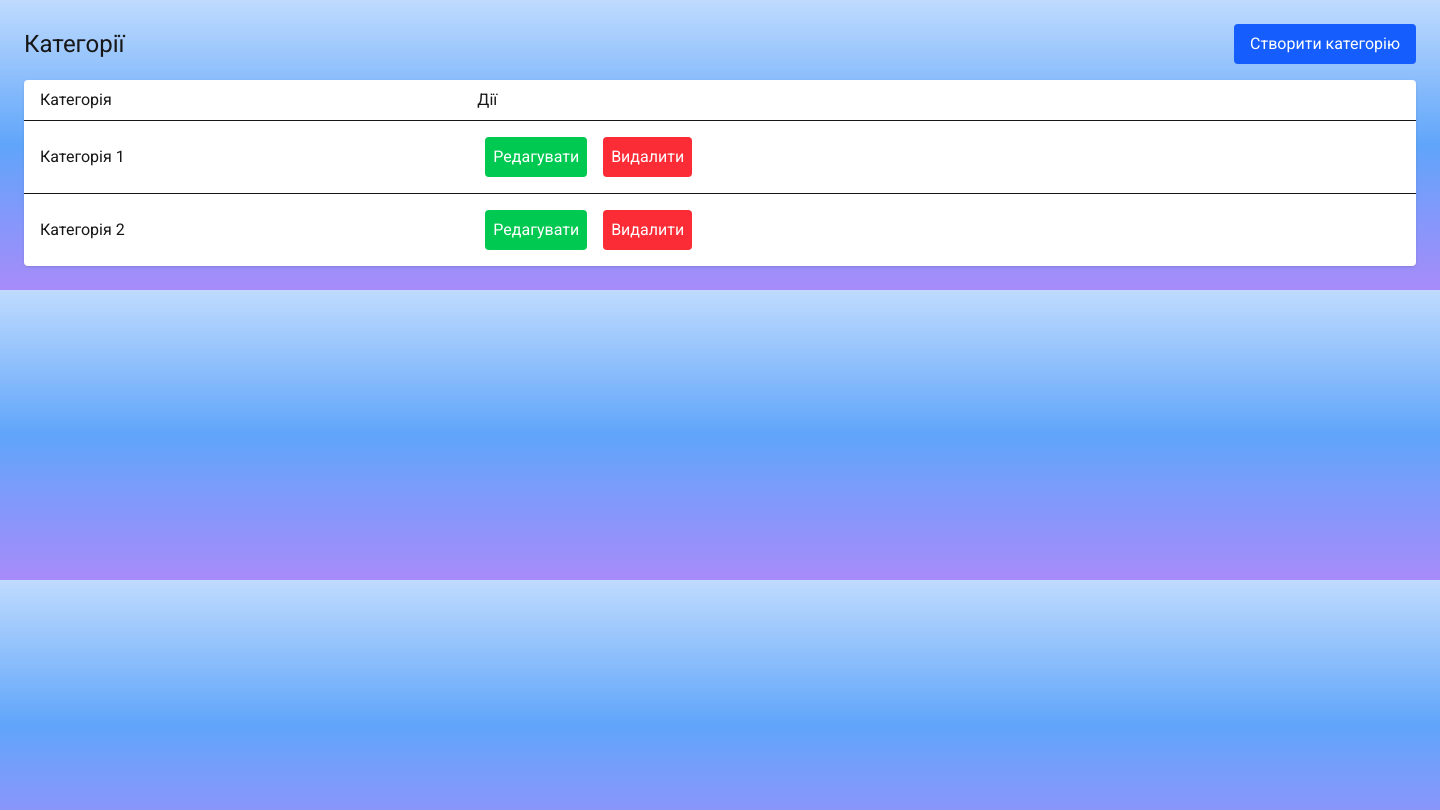
Test: CategoryManager › видаляє категорію після підтвердження
Expected: the text "Категорія 1" is shown, [24,120,461,194]
Click the button "Видалити" in the row of "Категорія 1".
click(648, 157)  # box [603,137,692,177]
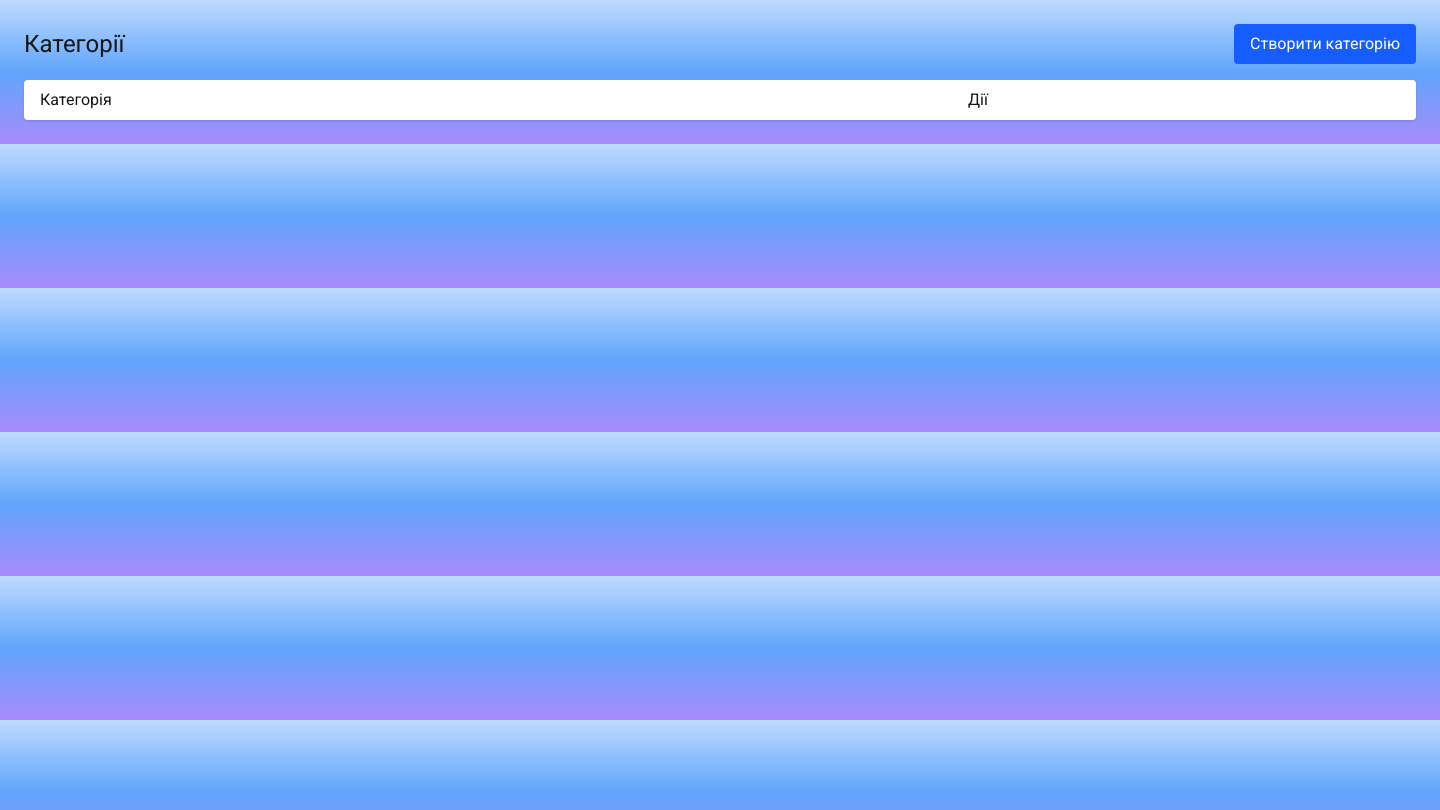
Result: the text "Категорія 1" is gone
